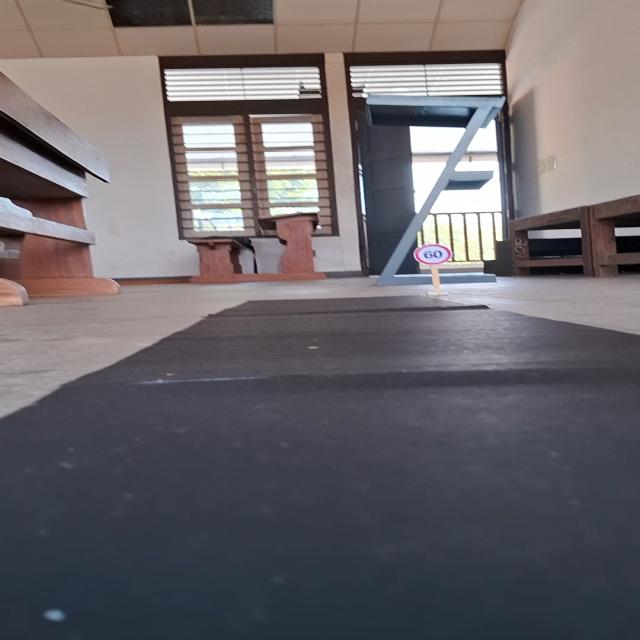Speed60: (413, 243, 454, 267)
